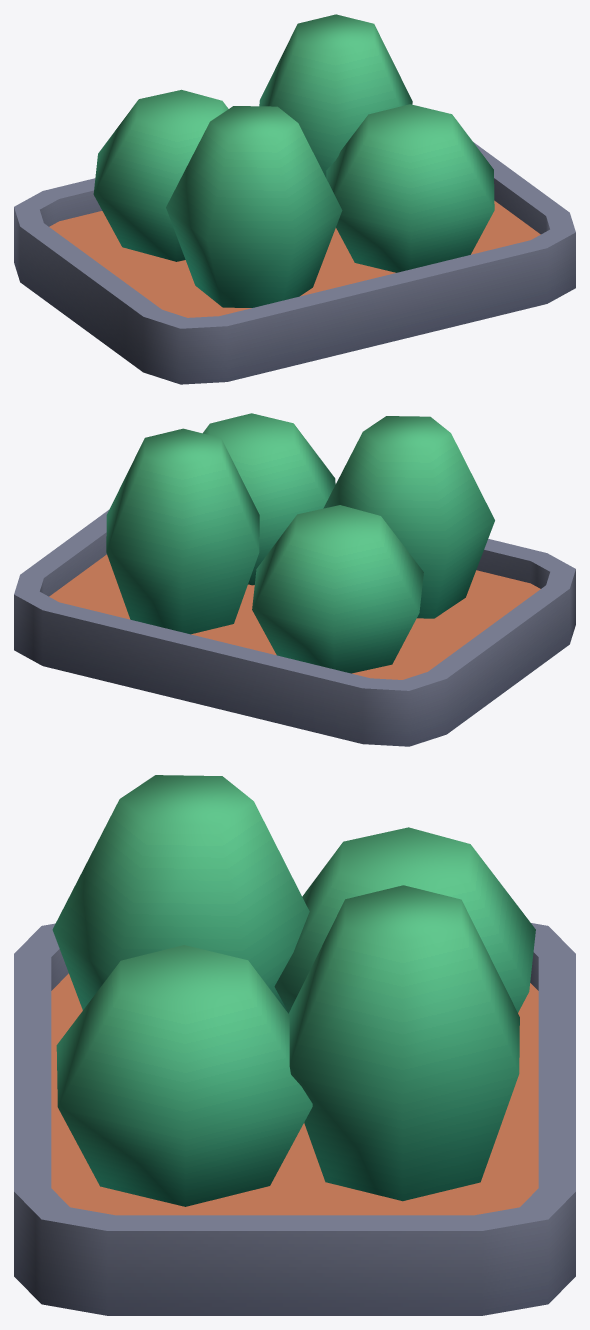
The model's file is prop_planter.glb.
3 renders of one model, top to bottom at view 1: azimuth 30°, elevation 25°; view 2: azimuth 150°, elevation 25°; view 3: azimuth 270°, elevation 25°, orthographic. The views are drawn at different scales.
Parts seen in each view (by area): view 1: planter; view 2: planter; view 3: planter.
Part boxes in pixels (x1,y1,x2,y2): planter: (14, 14, 575, 384); planter: (14, 413, 575, 746); planter: (14, 775, 575, 1315).
Size of the model in its own units: 0.4 by 0.1771 by 0.3.
1 material, 1 textured.
